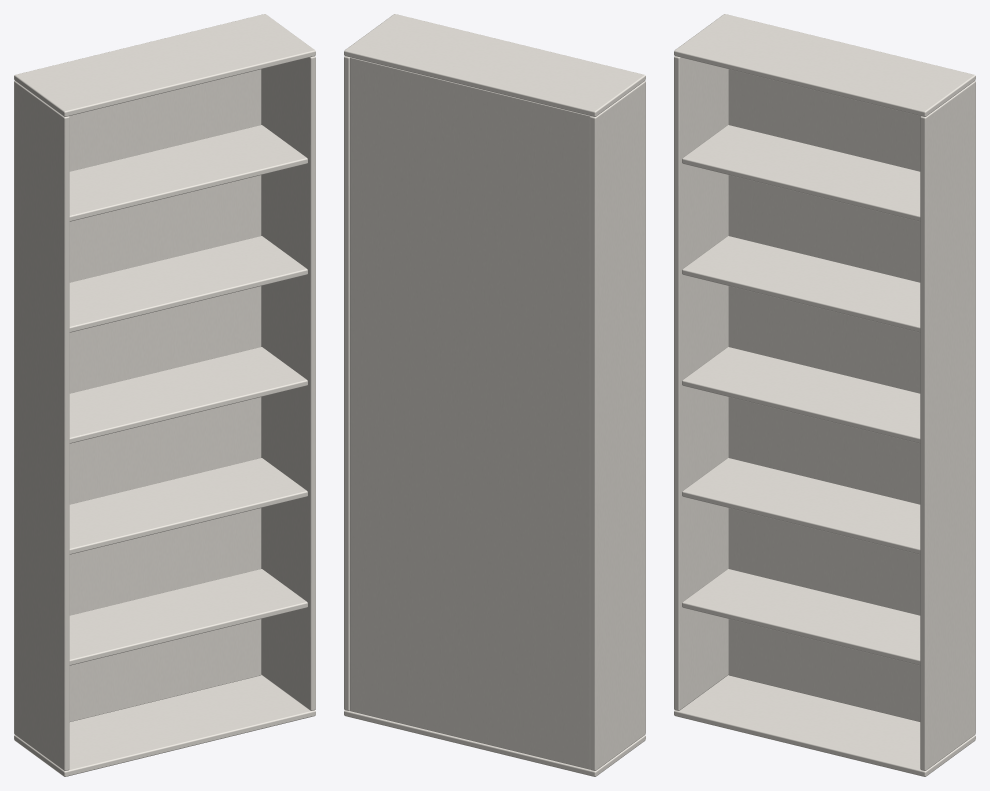
File: billy-mobile.glb
The picture shows the model from 3 angles, left to right: view 1: azimuth 30°, elevation 25°; view 2: azimuth 150°, elevation 25°; view 3: azimuth 330°, elevation 25°; orthographic projection.
Parts seen in each view (by area): view 1: BILLY Bookcase; view 2: BILLY Bookcase; view 3: BILLY Bookcase.
Part boxes in pixels (bbox=[...]): BILLY Bookcase: bbox=[14, 14, 315, 776]; BILLY Bookcase: bbox=[344, 14, 645, 776]; BILLY Bookcase: bbox=[674, 14, 975, 776].
Size of the model in its own units: 0.8 by 2.02 by 0.28.
1 material, 1 textured.
